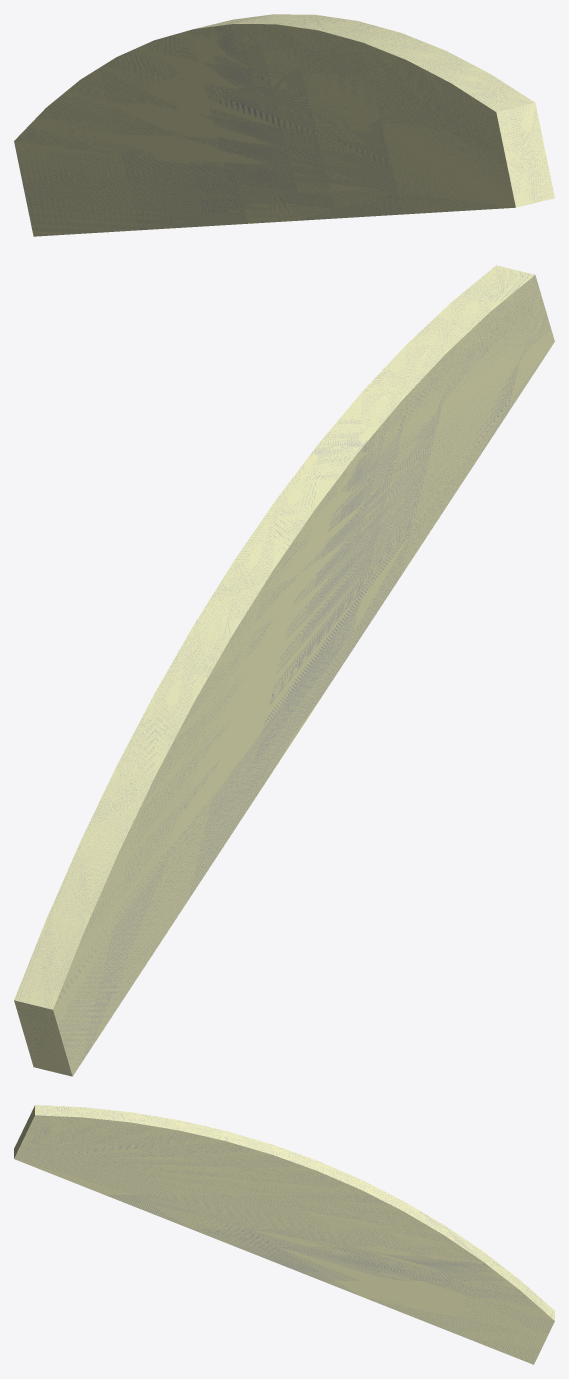
File: original-69.obj
3 renders of one model, top to bottom at view 1: azimuth 30°, elevation 25°; view 2: azimuth 150°, elevation 25°; view 3: azimuth 270°, elevation 25°, orthographic. The views are drawn at different scales.
Visible parts, largest first — view 1: Arches1/Arches/mesh18/mesh18-geometry#mesh18-geometry; view 2: Arches1/Arches/mesh18/mesh18-geometry#mesh18-geometry; view 3: Arches1/Arches/mesh18/mesh18-geometry#mesh18-geometry.
Part boxes in pixels (x1,y1,x2,y2): Arches1/Arches/mesh18/mesh18-geometry#mesh18-geometry: [14, 14, 554, 236]; Arches1/Arches/mesh18/mesh18-geometry#mesh18-geometry: [14, 265, 554, 1076]; Arches1/Arches/mesh18/mesh18-geometry#mesh18-geometry: [14, 1105, 554, 1364].
Bounding box in the file's own units: 0.0325 × 0.3685 × 0.7238.
